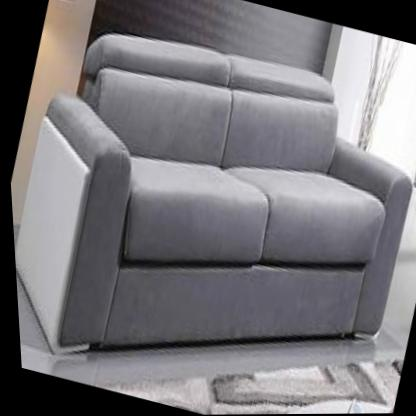Sofa: (0, 4, 416, 416)
